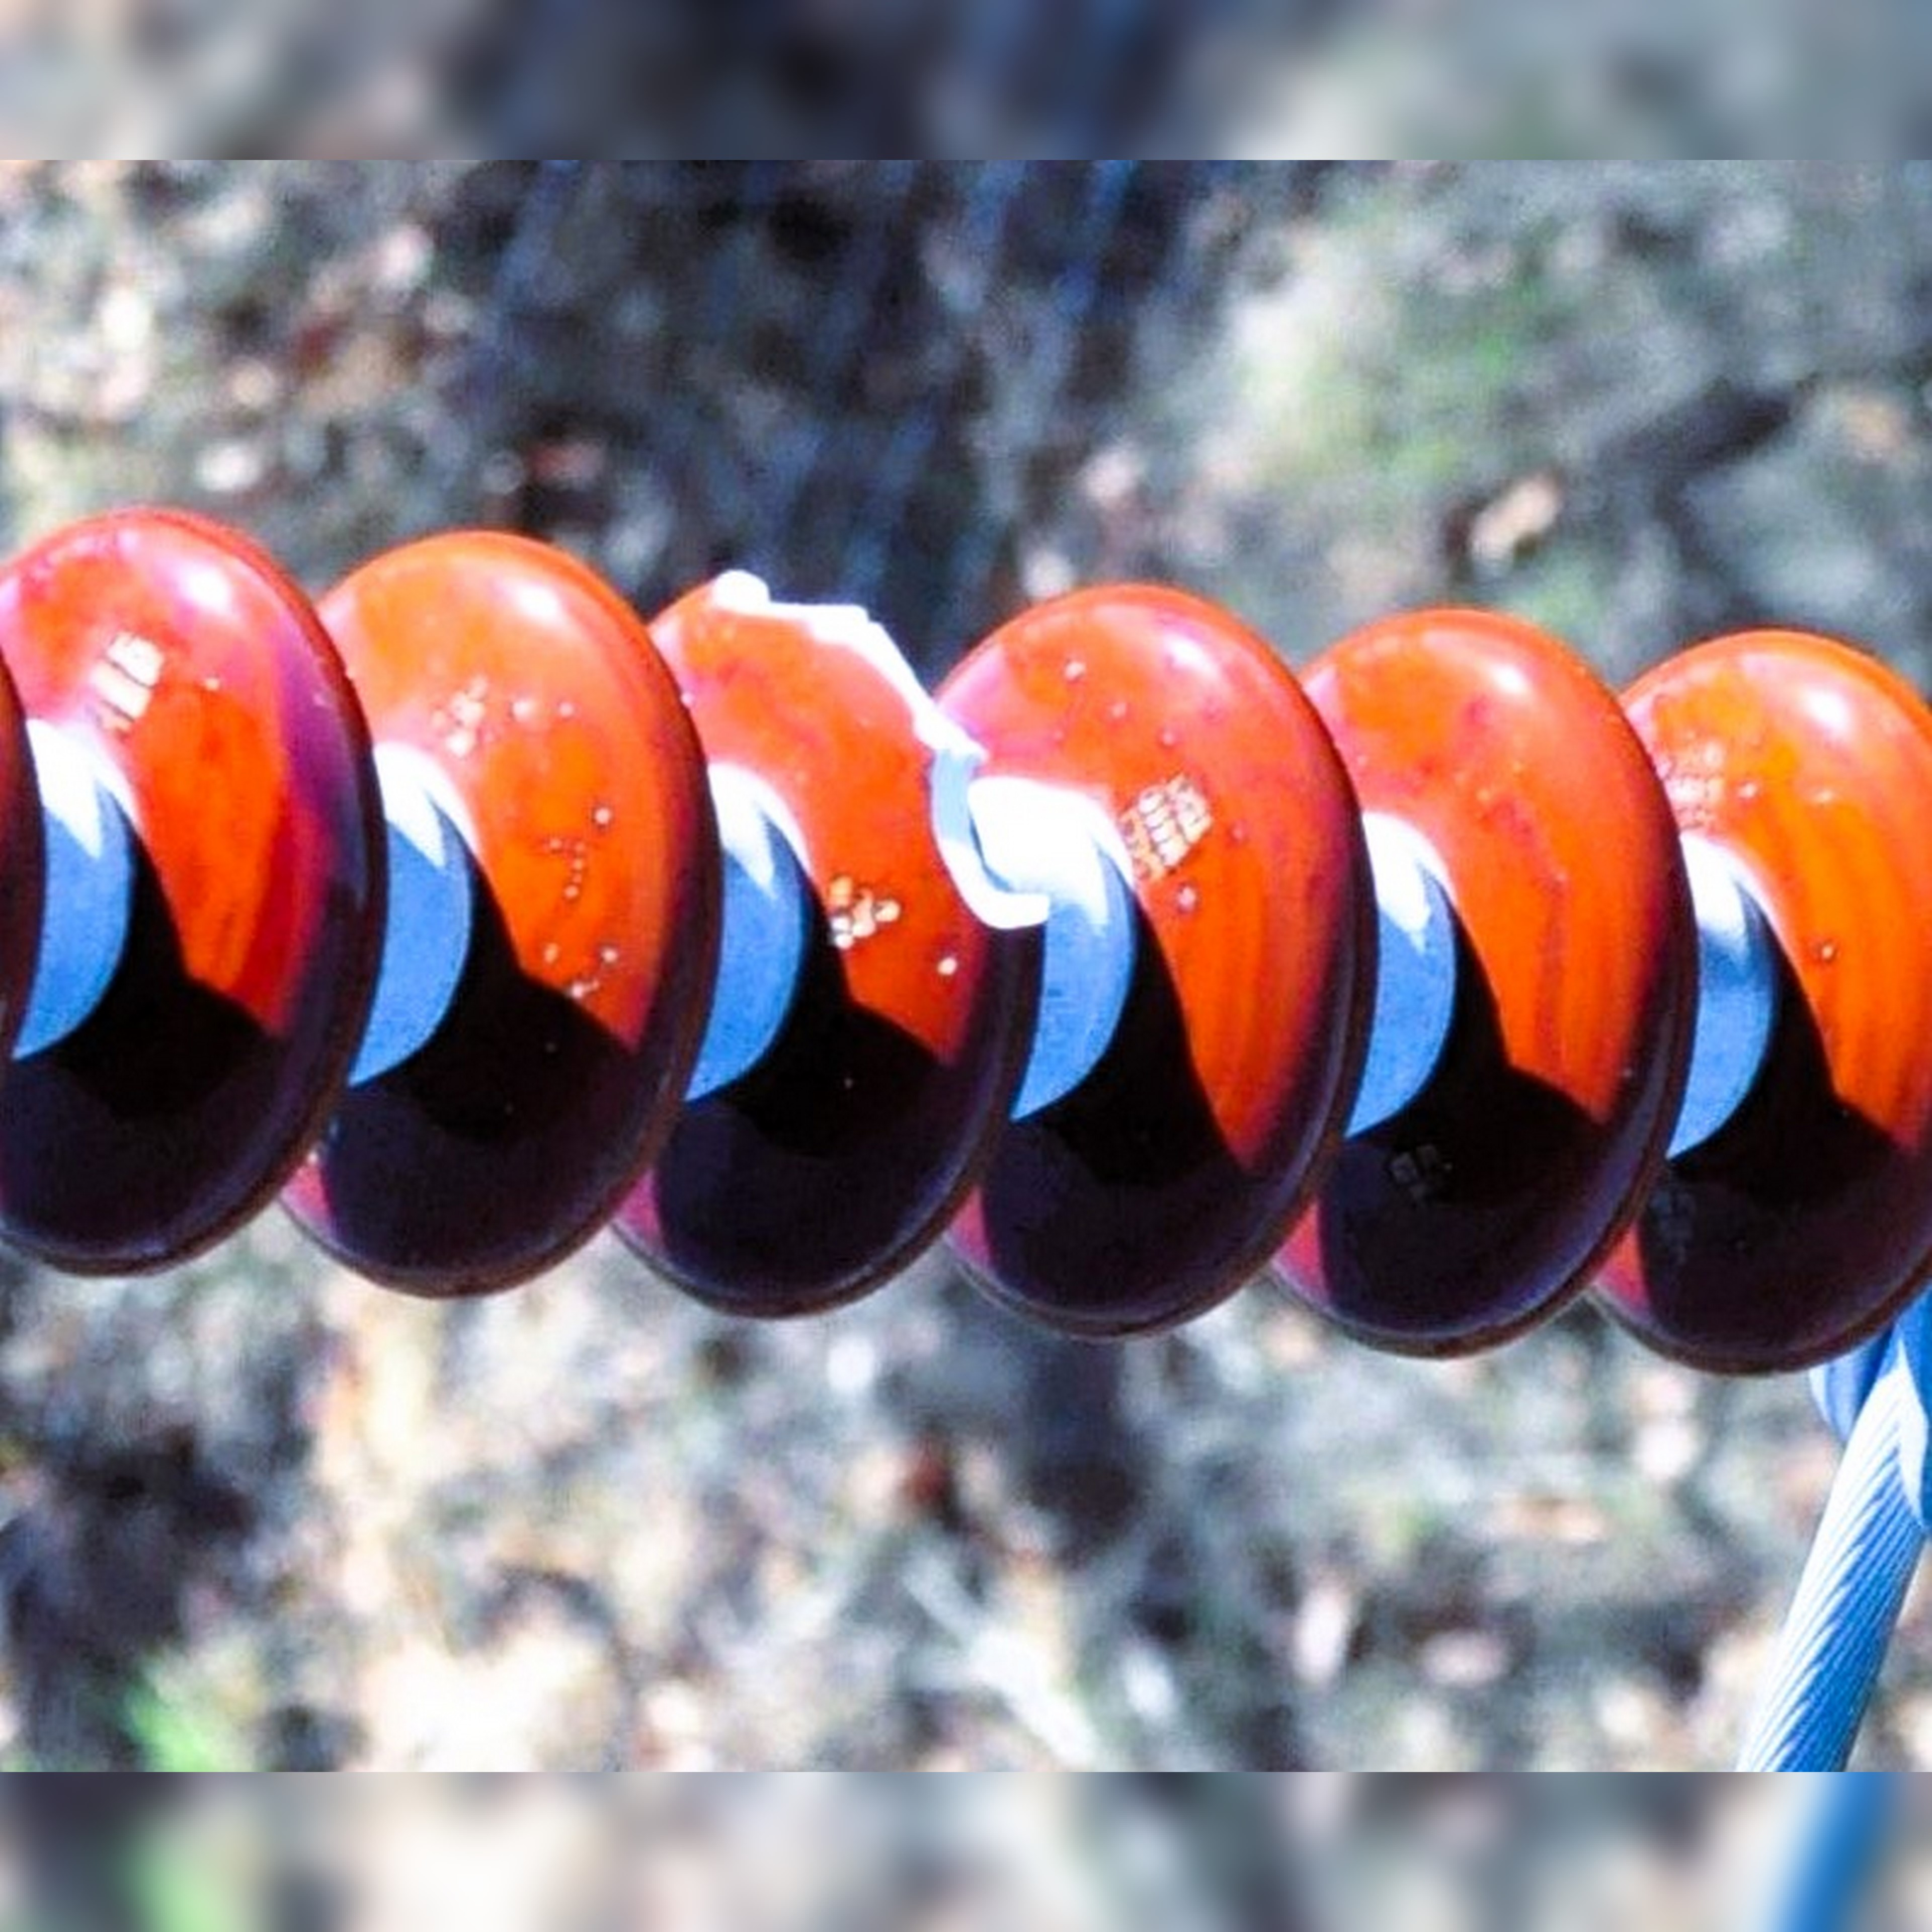insulator breakage: (621, 536, 1044, 1332)
